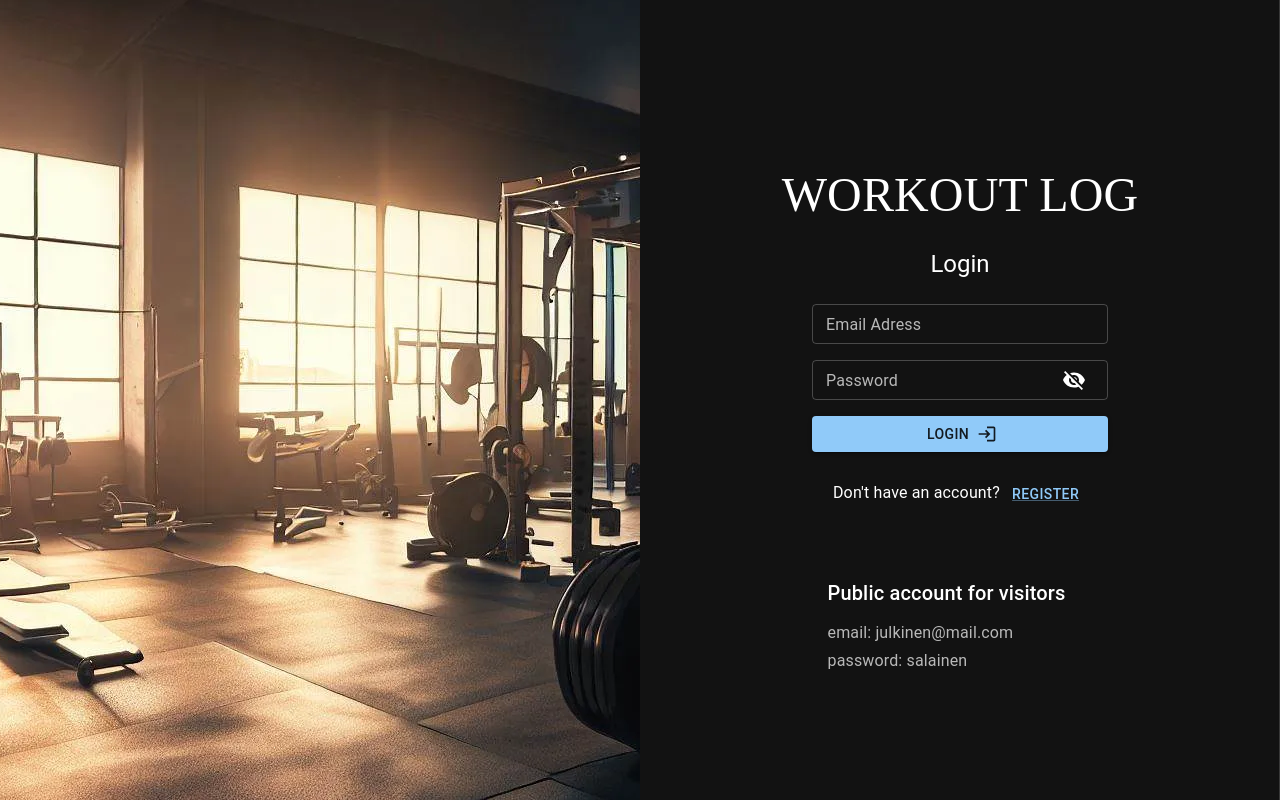
Login and register functionality › register page can be opened
The width and height of the screenshot is (1280, 800).
Click the button "Register". click: (1046, 495)
box: [1004, 476, 1087, 513]
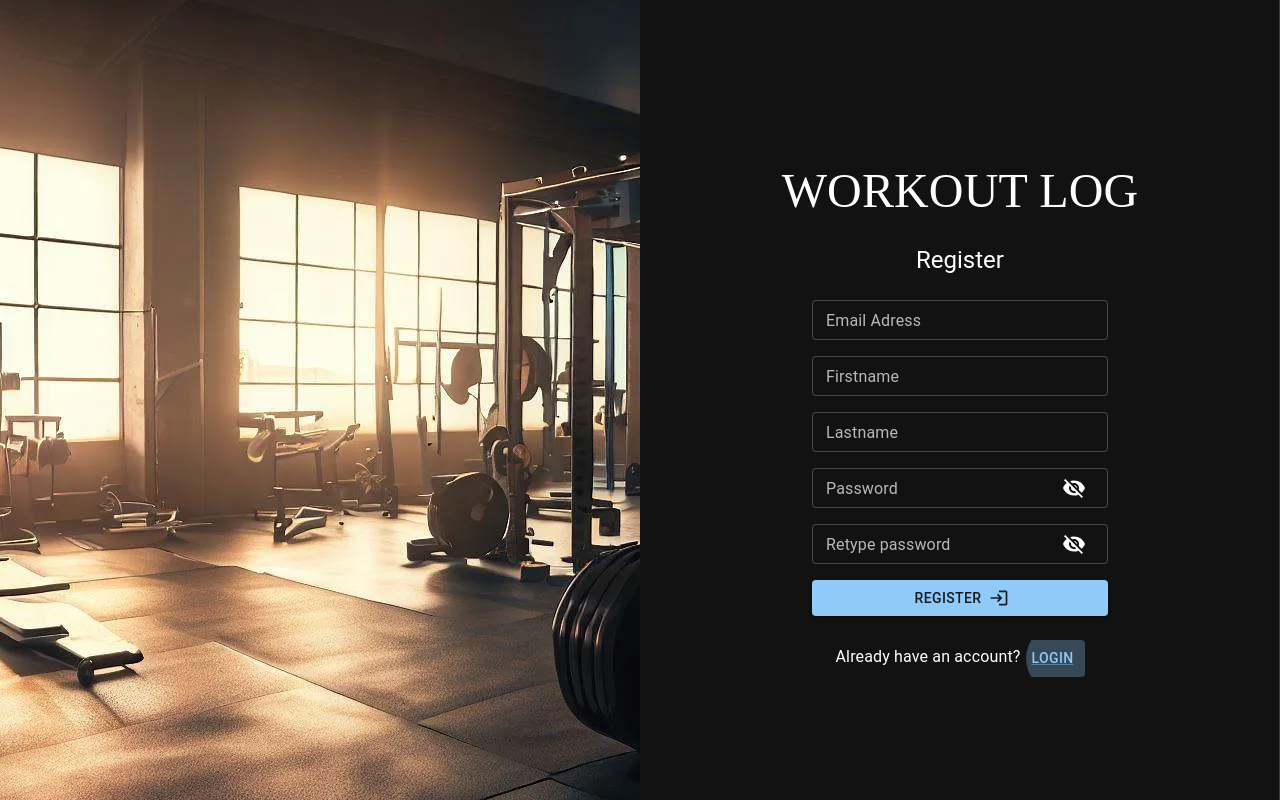
Now the text "Firstname" is shown, box [826, 364, 899, 388]
Now the text "Lastname" is shown, box [826, 420, 898, 444]
